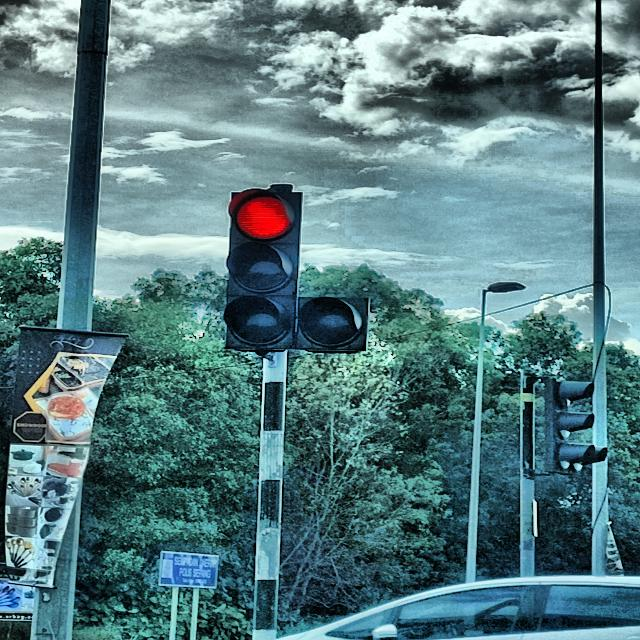red: (223, 188, 302, 352)
